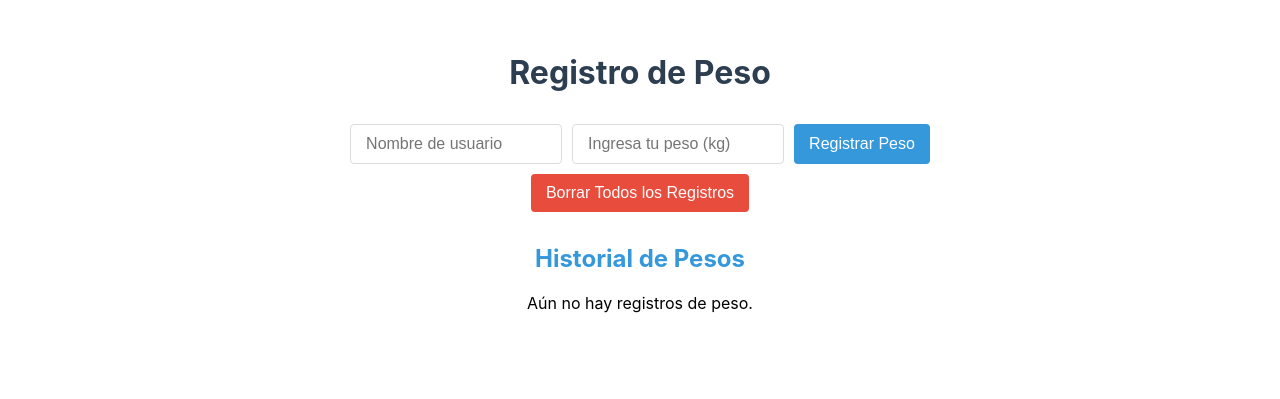
Test: Pruebas E2E de la Aplicación de Seguimiento de Peso › debería impedir añadir un peso dentro de las 48 horas y mostrar un mensaje de error
Note: Primer registro
In the field with placeholder "Nombre de usuario": (456, 144) [350,124,562,164], type "Usuario Prueba"
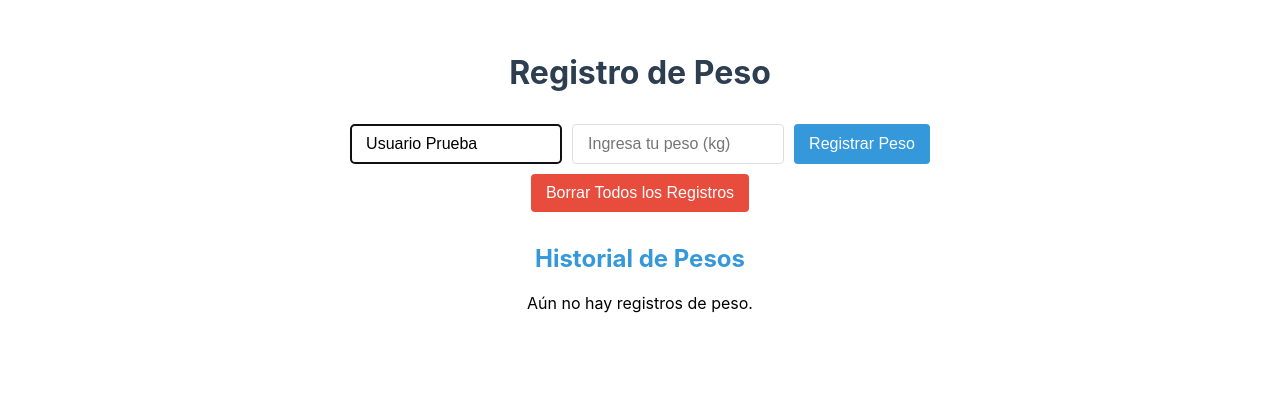
In the number field with placeholder "Ingresa tu peso (kg)": (678, 144) [572,124,784,164], type "70"
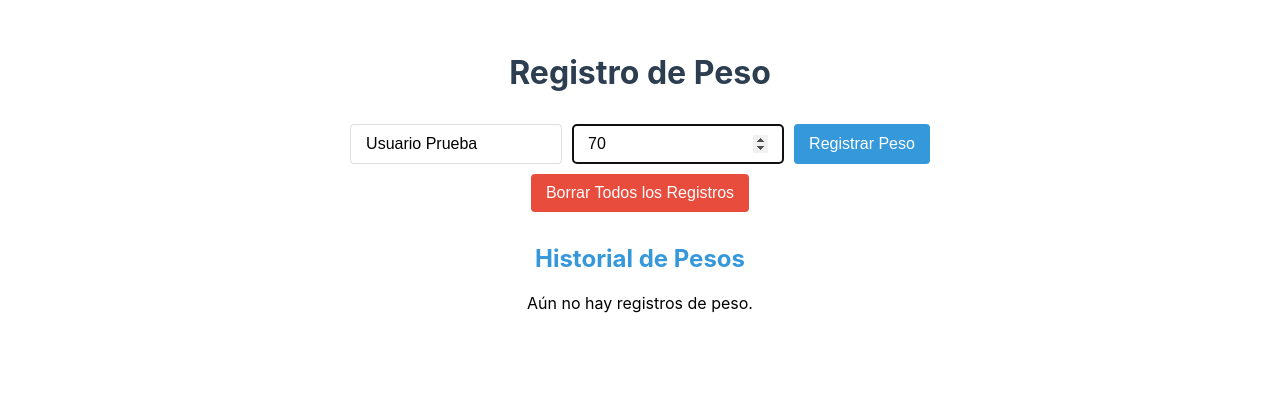
Click the button "Registrar Peso": (862, 144) [794,124,930,164]
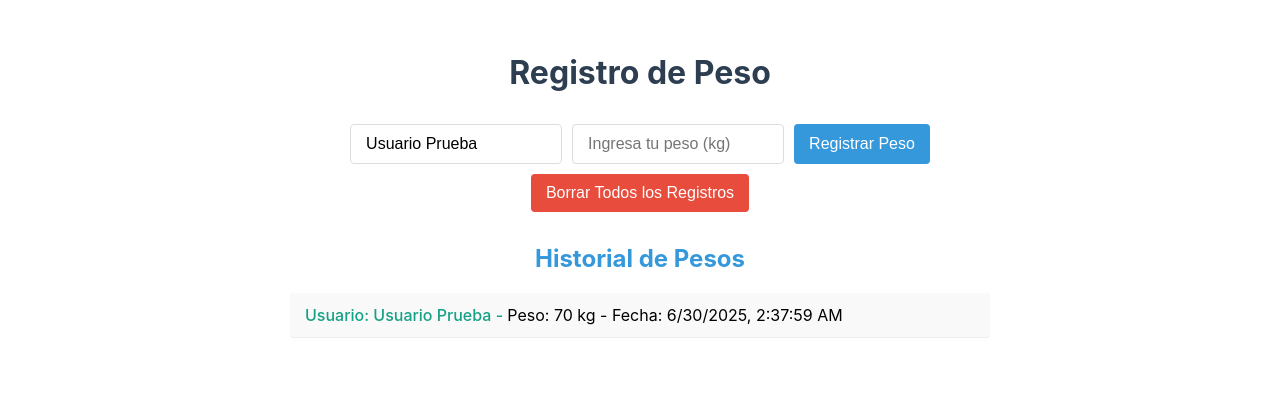
Note: Intentar registrar de nuevo inmediatamente
In the number field with placeholder "Ingresa tu peso (kg)": (678, 144) [572,124,784,164], type "70.1"
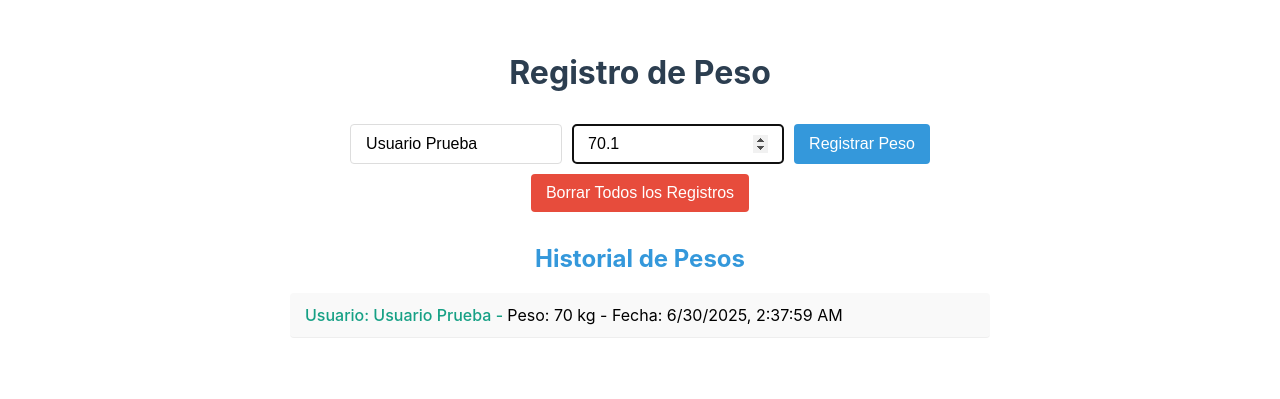
Click the button "Registrar Peso": (862, 144) [794,124,930,164]
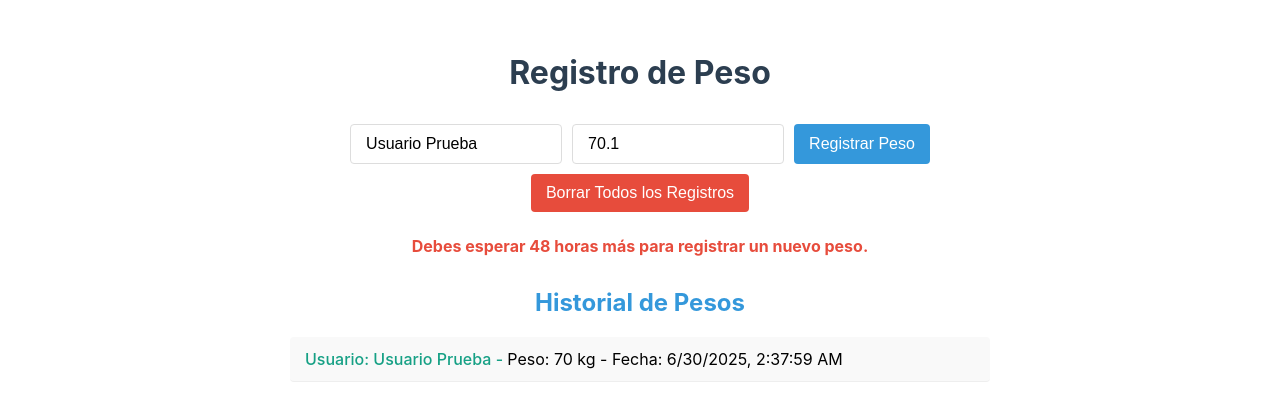
Expected: the number of list items is 1, [290,337,990,382]
Expected: the text with class "error-message" shows "Debes esperar", [412,236,868,256]
